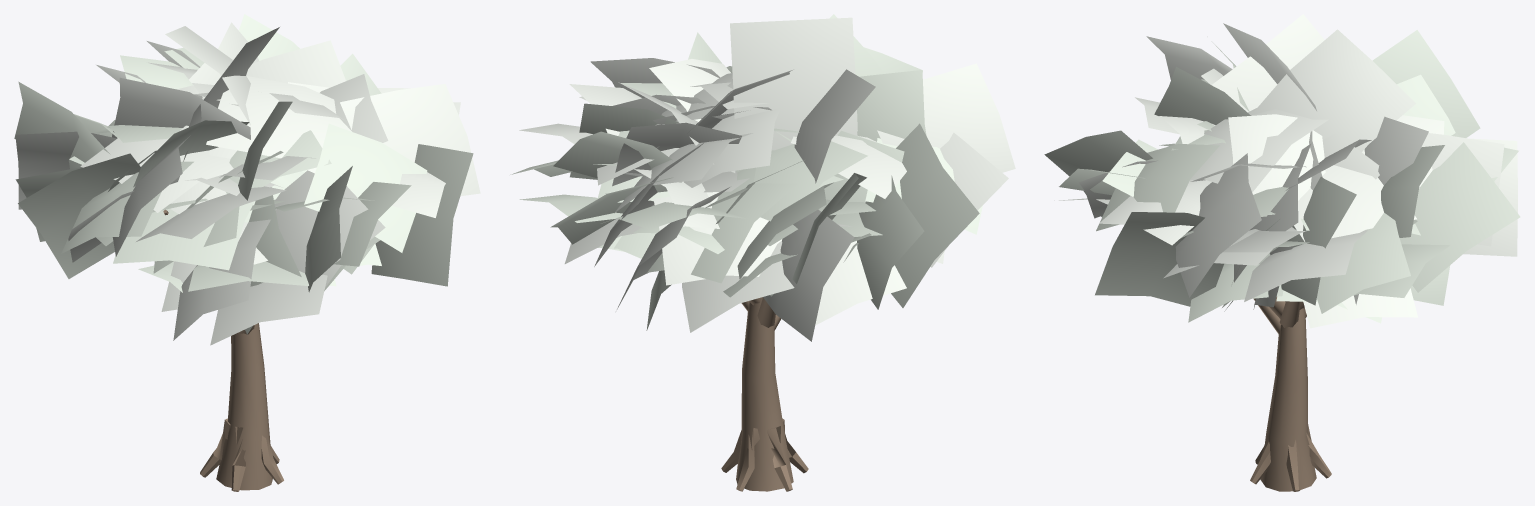
Rendered from OW_PlaneTree.fbx.
3 views of the same model, side by side, from view 1: azimuth 30°, elevation 25°; view 2: azimuth 150°, elevation 25°; view 3: azimuth 270°, elevation 25° (orthographic). The views are drawn at different scales.
Visible parts, largest first — view 1: OW_PlaneTree; view 2: OW_PlaneTree; view 3: OW_PlaneTree.
Part boxes in pixels (x1,y1,x2,y2): OW_PlaneTree: [14, 14, 480, 491]; OW_PlaneTree: [510, 14, 1015, 491]; OW_PlaneTree: [1044, 14, 1520, 491].
Size of the model in its own units: 6.52 by 6.45 by 6.41.
